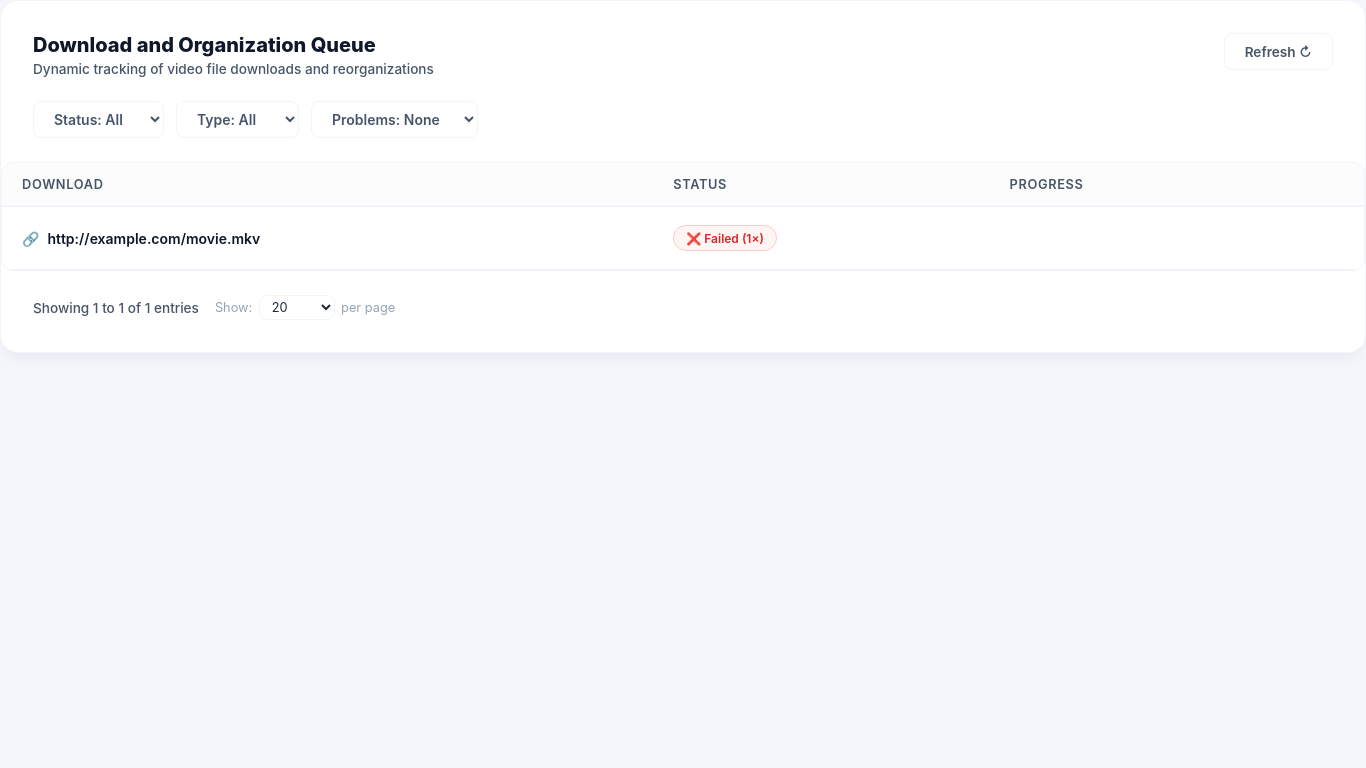
DownloadsTab error banner › shows the error banner for a failed download with an error_message
Click the cell "🔗http://example.com/movie.mkv" at (328, 239), box [2, 207, 653, 270]
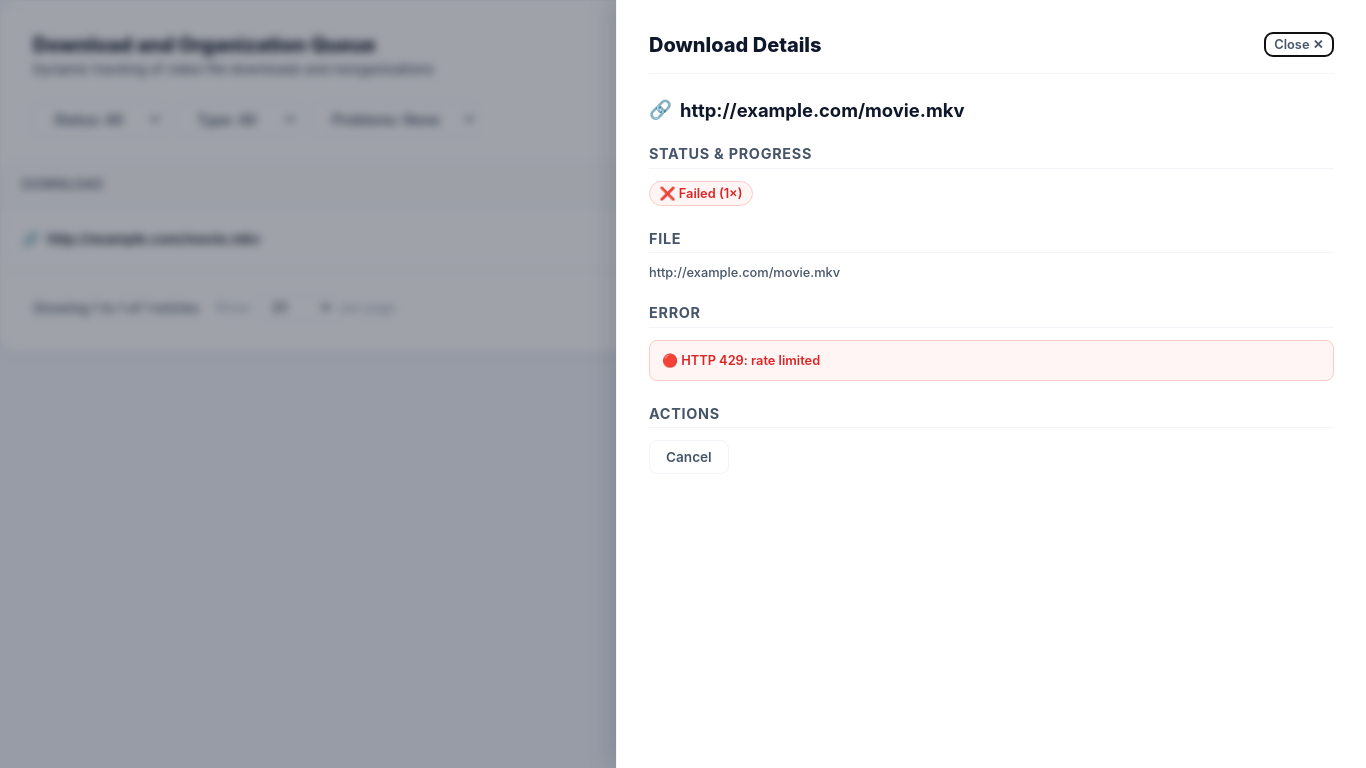
Expected: the text "🔴 HTTP 429: rate limited" is shown, [649, 340, 1334, 381]
